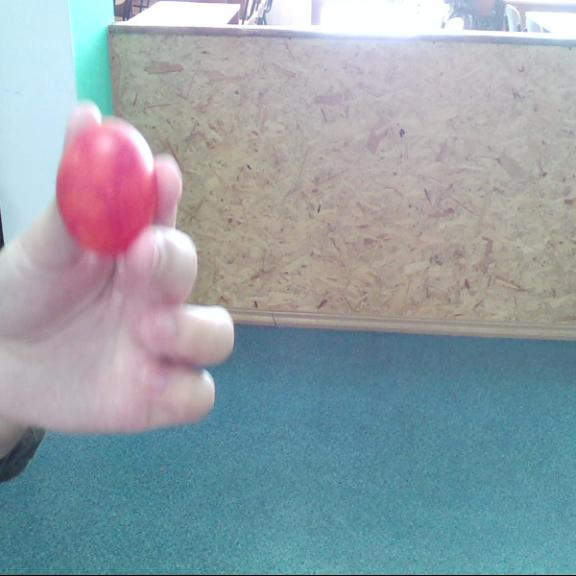ball: (54, 118, 162, 254)
